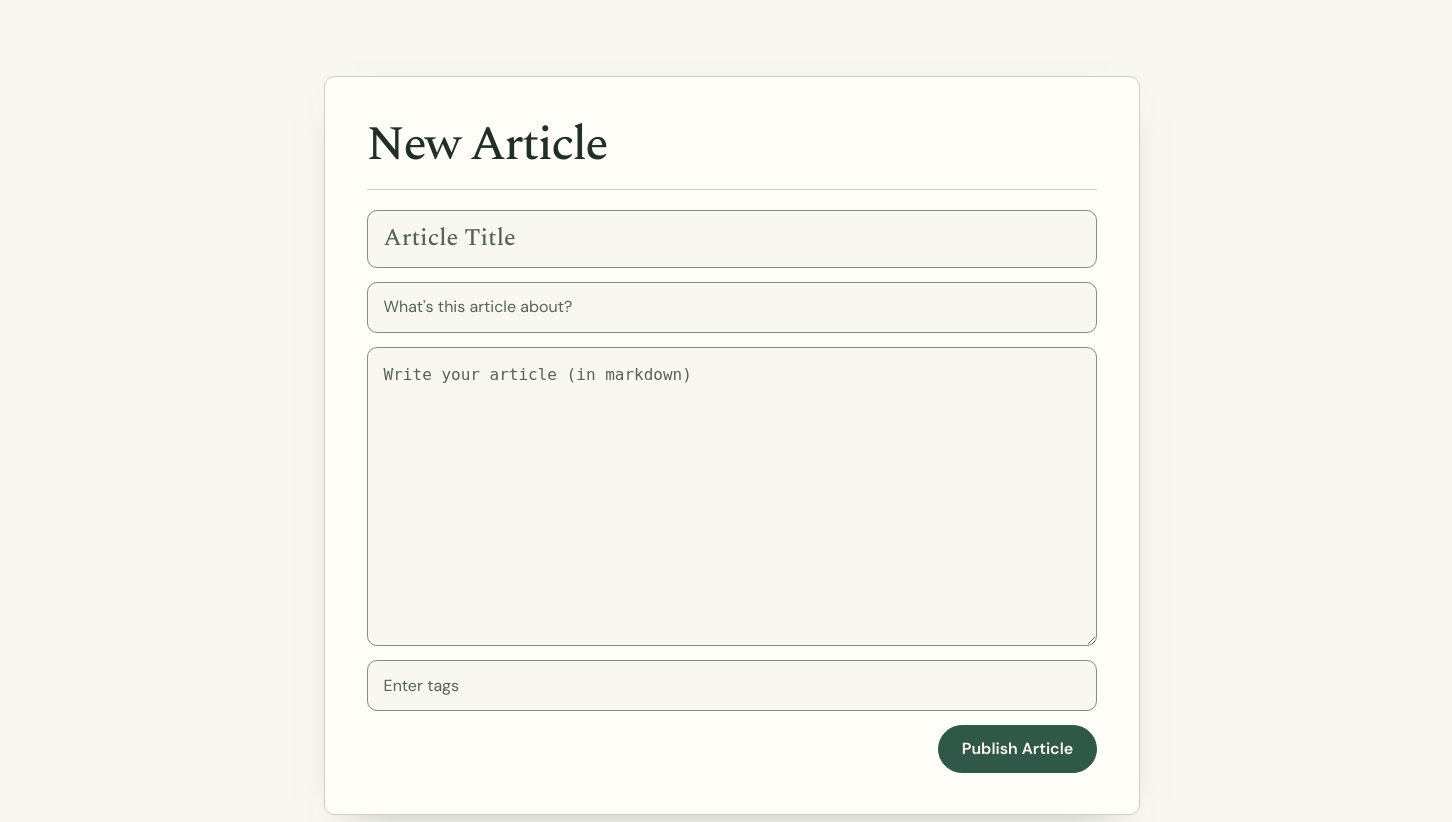
Scenario: creates an article, adds tags once with Enter and stores the returned detail
This screenshot has width=1452, height=822.
Type "Old title" into the field labelled "Article Title" at (732, 239), box [367,210,1097,268]
Type "Summary" into the field named "Description" at (732, 307), box [367,282,1097,333]
Type "Body" into the text box named "Article body" at (732, 496), box [367,347,1097,646]
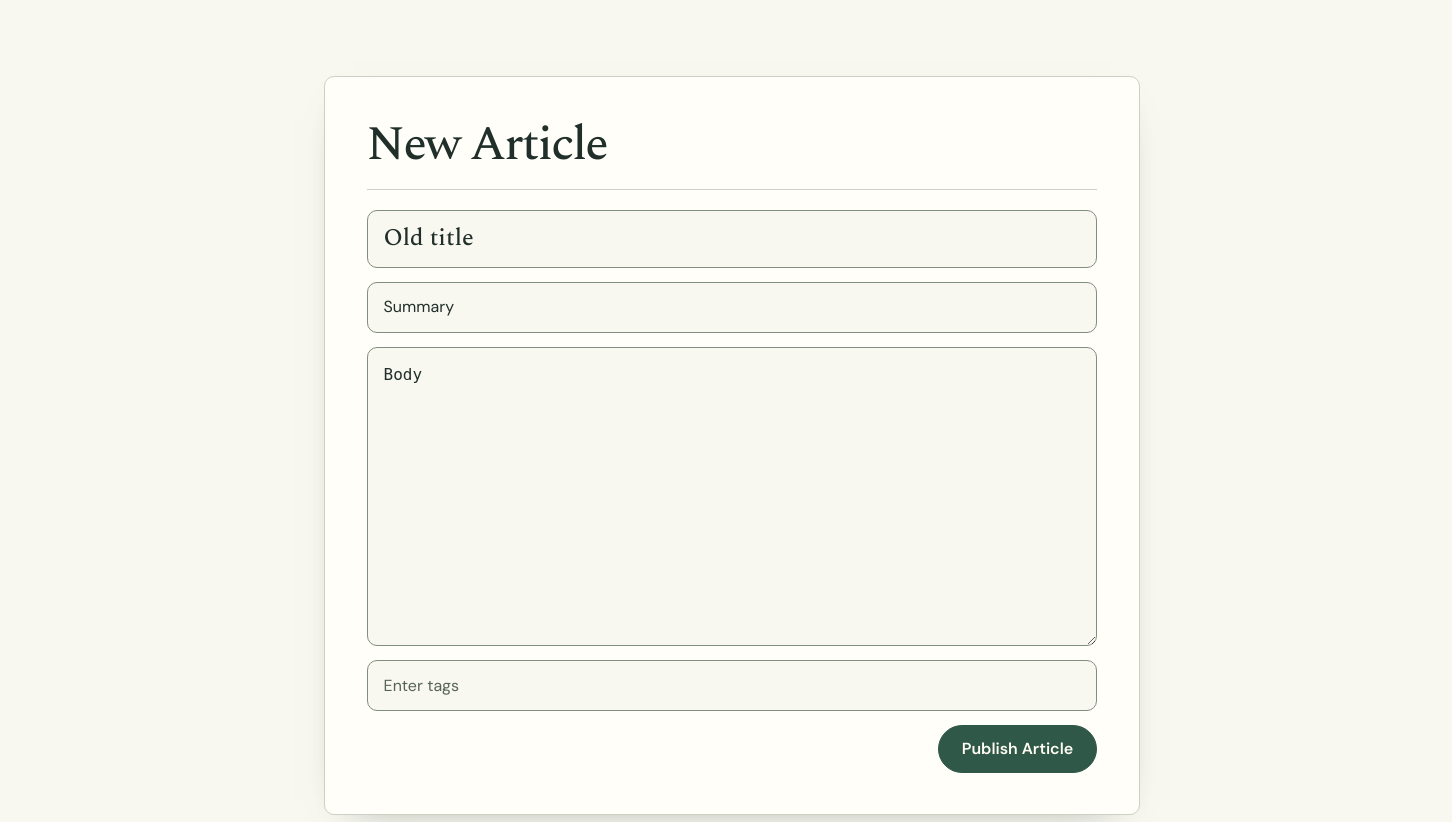
Type " news " into the field with placeholder "Enter tags" at (732, 686), box [367,660,1097,711]
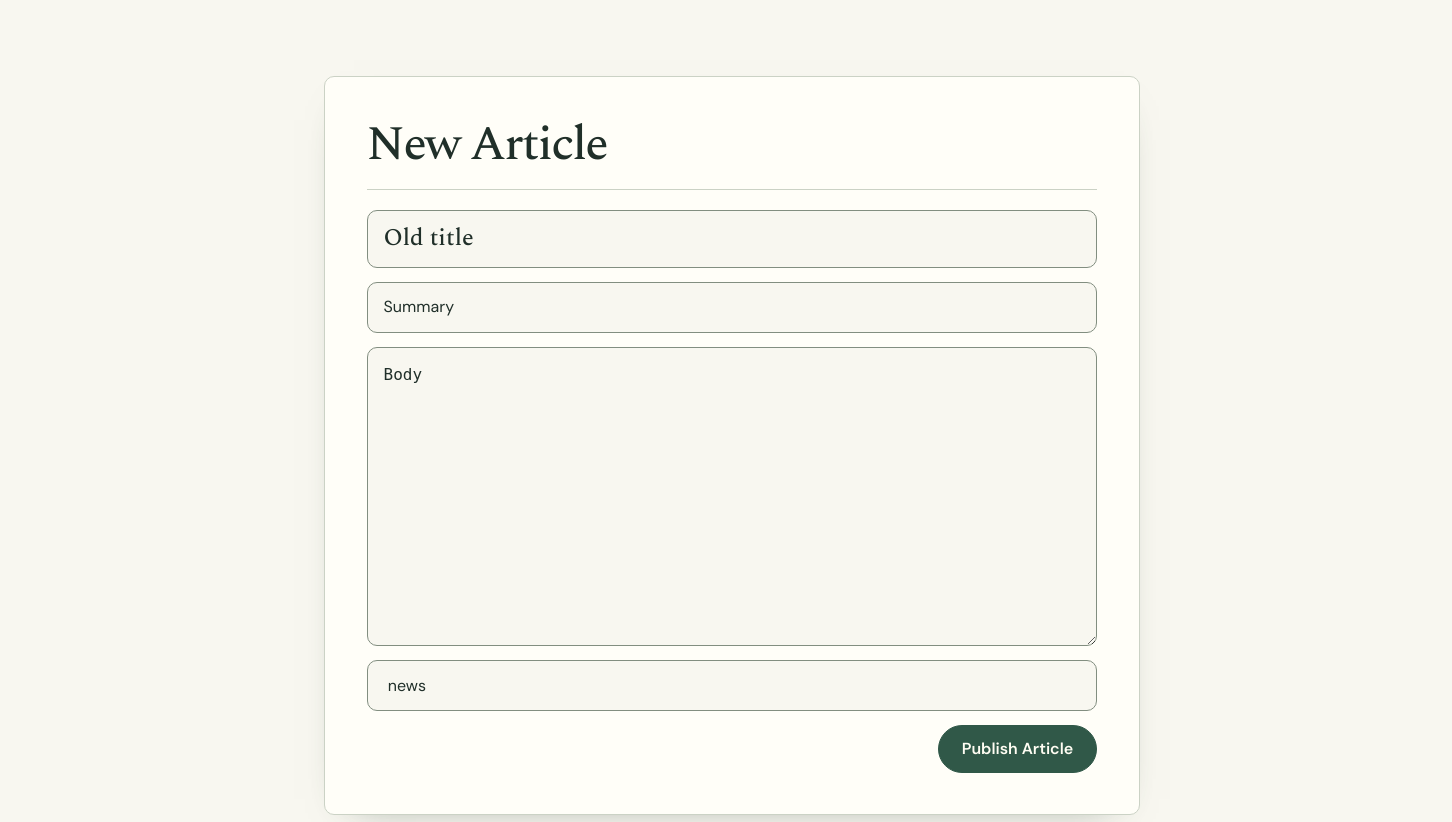
Press Enter in the field with placeholder "Enter tags", box [367,660,1097,711]
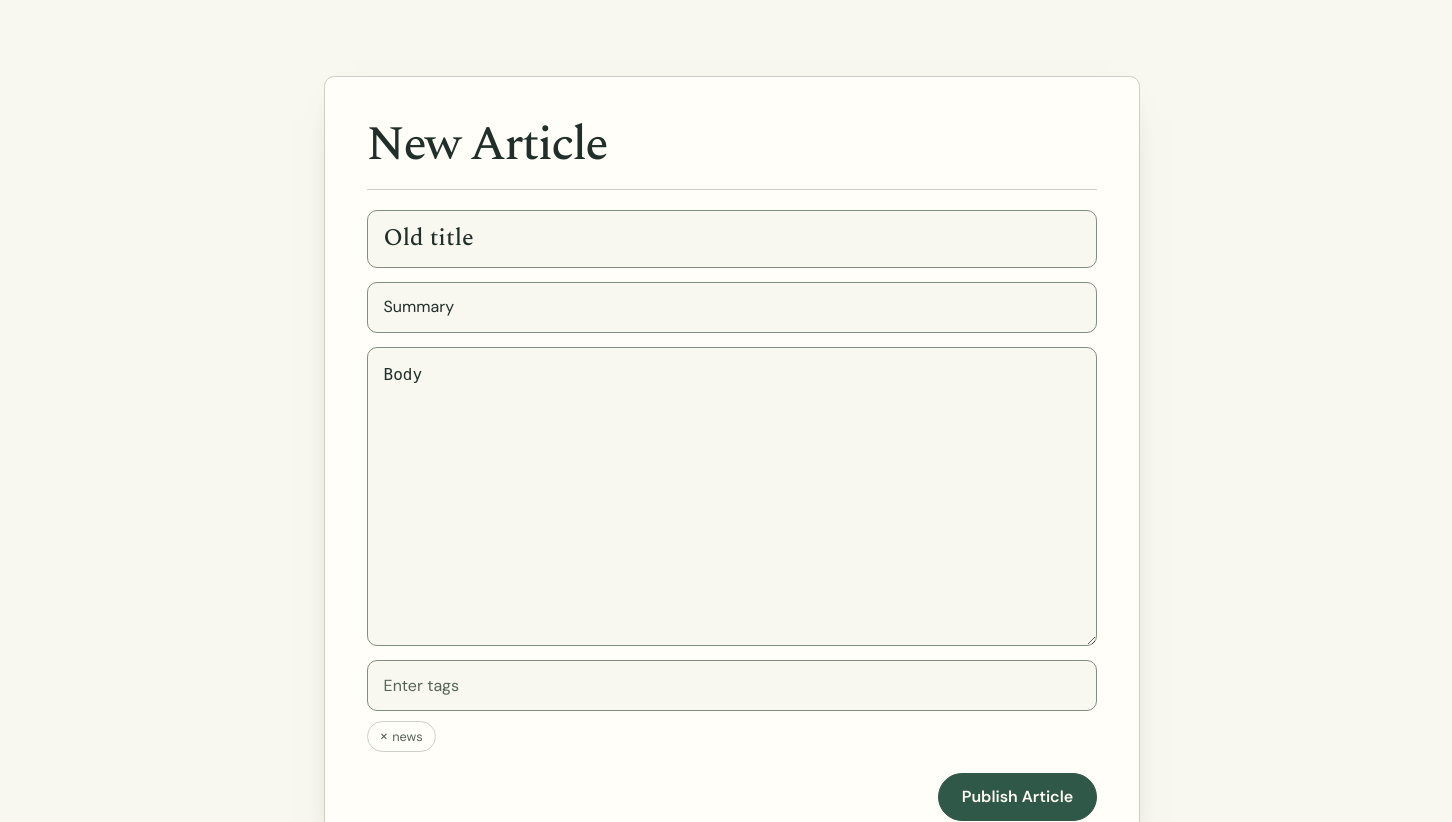
Type "news" into the field with placeholder "Enter tags" at (732, 686), box [367,660,1097,711]
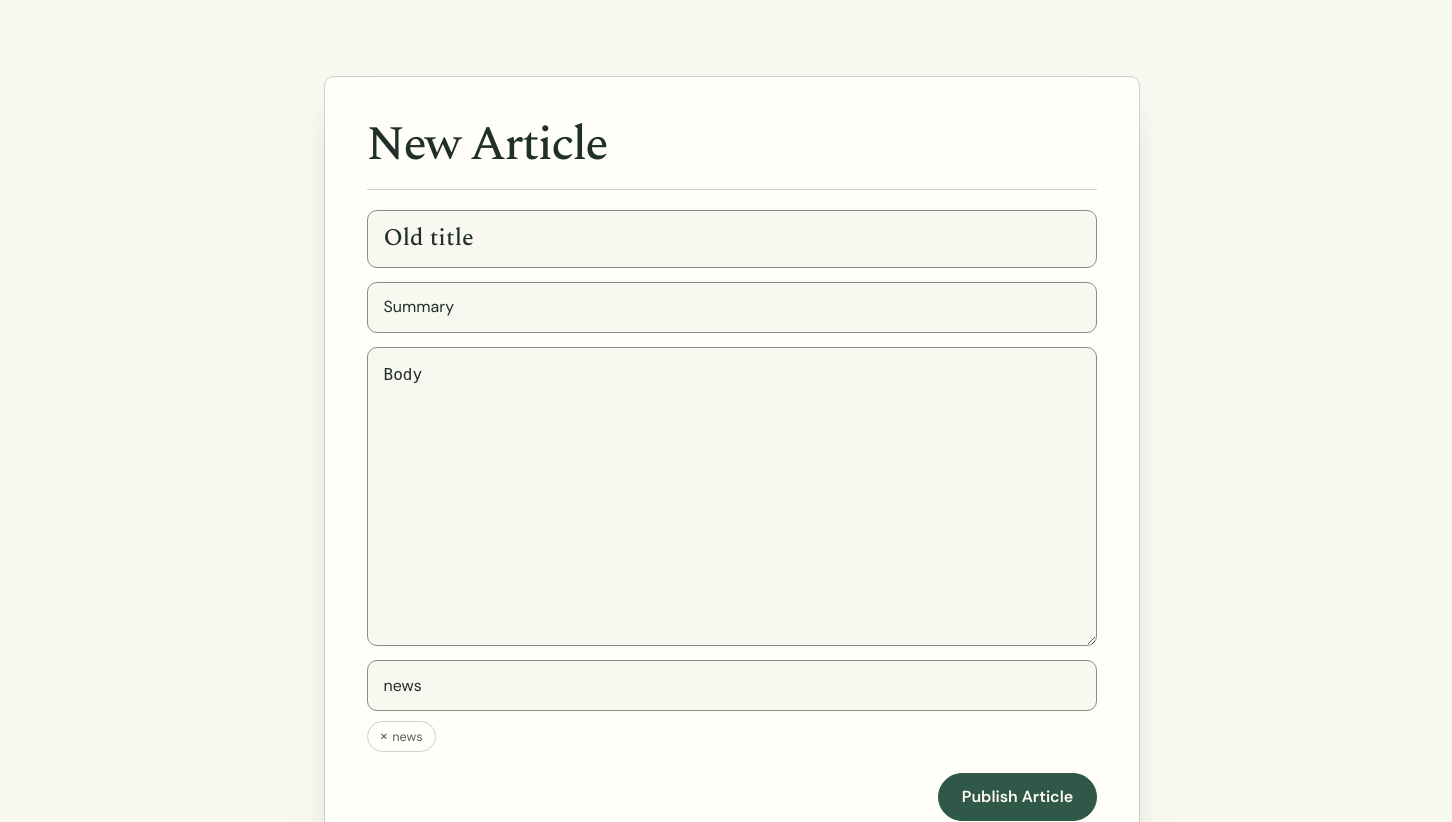
Press Enter in the field with placeholder "Enter tags", box [367,660,1097,711]
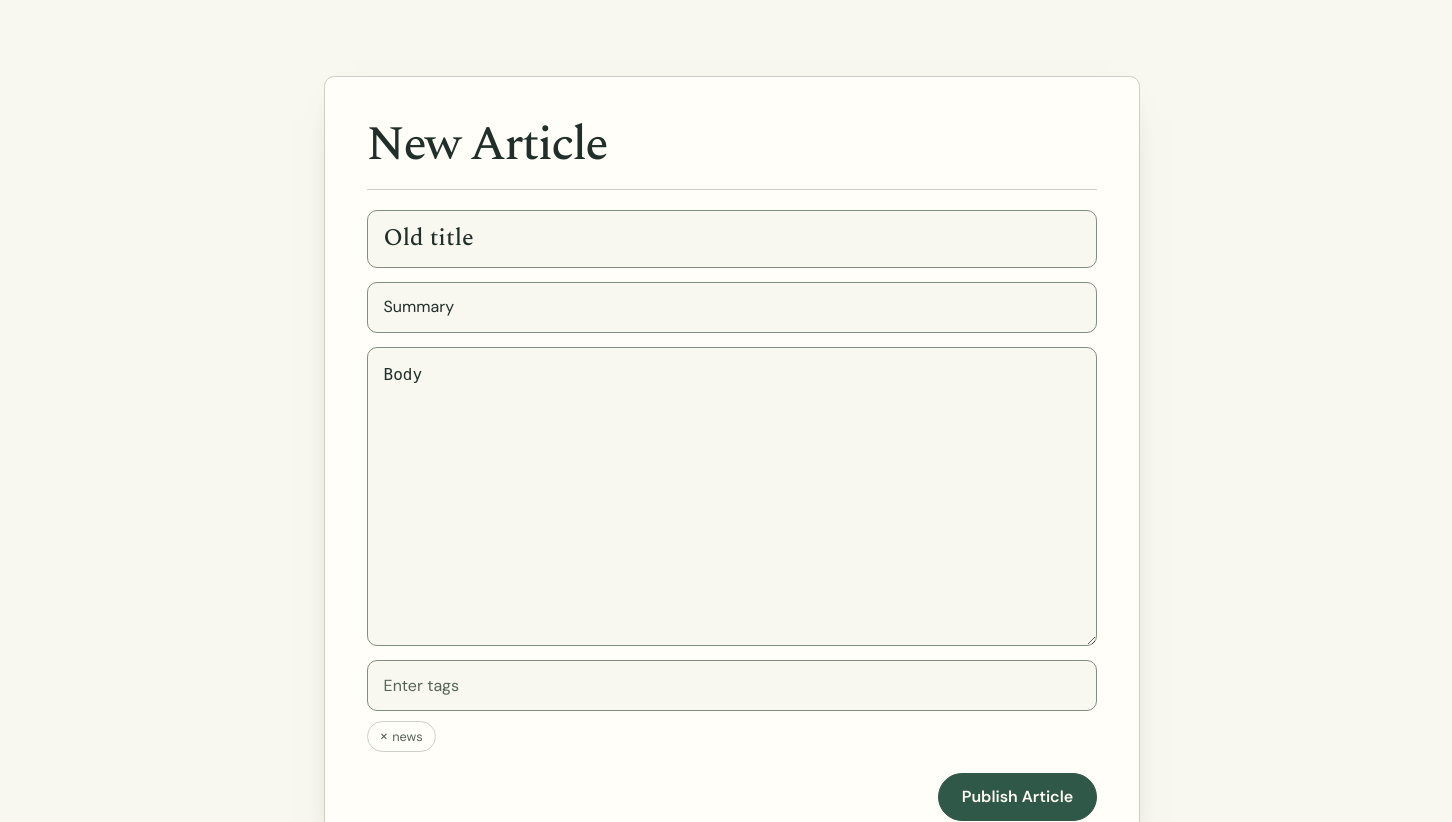
Expected: the number of buttons named "Remove news" is 1, [380,728,392,745]
Click the button "Publish Article" at (1018, 797), box [938,773,1097,821]
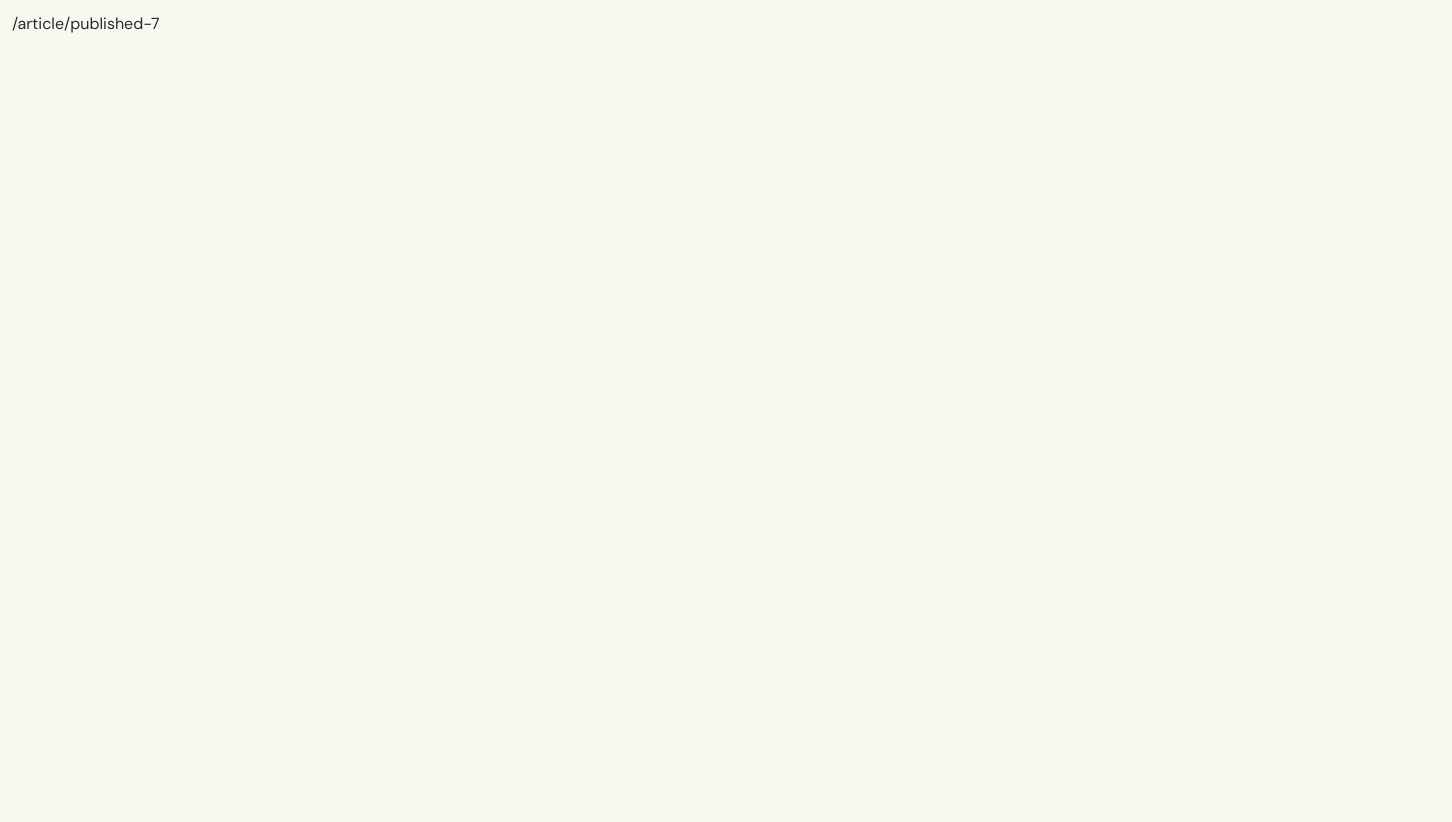
Expected: the text "/article/published-7" is shown, [12,13,160,34]
